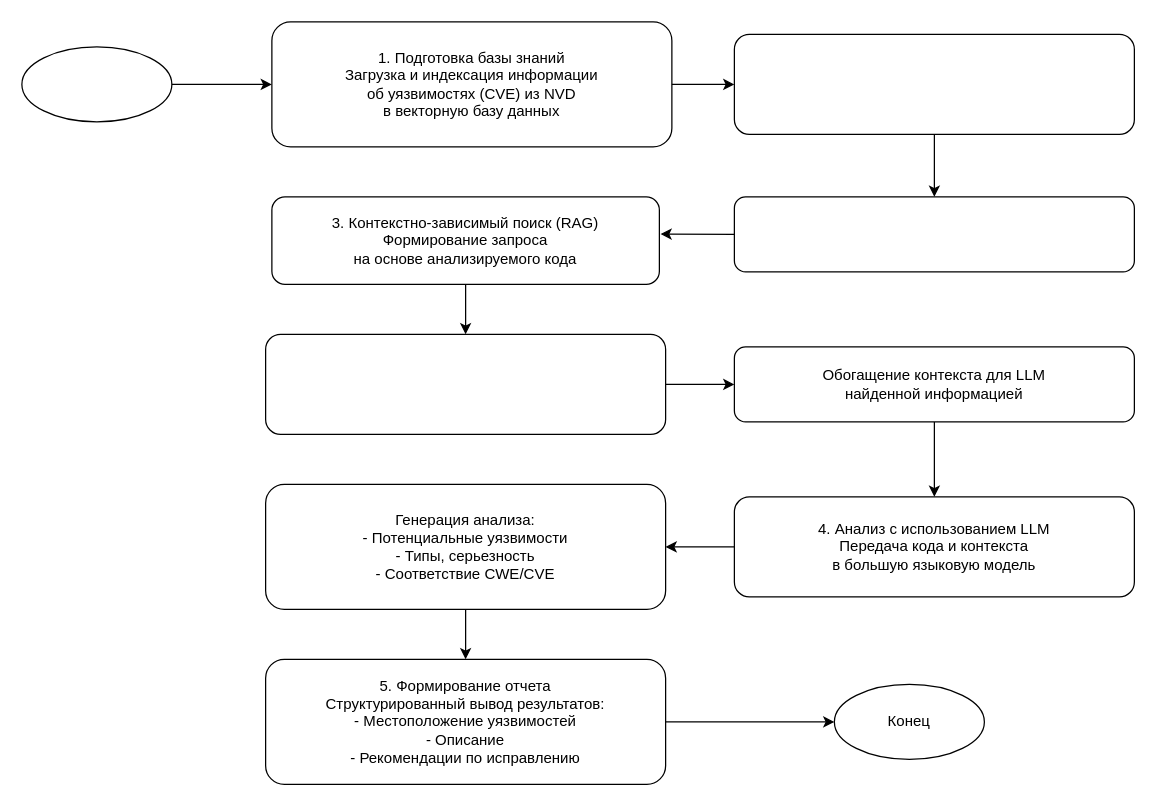
The diagram is 1156 pixels wide and 806 high, and some of its shapes have lost their labels. The shapes that lost their labels are listed below. From the top down, each one's centre as x and y in pixels, then its label:
the point at 96,84: Начало
the point at 933,83: 2. Анализ исходного кода Парсинг файлов проекта (поддержка множественных языков)
the point at 933,234: Извлечение релевантных фрагментов кода для анализа
the point at 465,383: Поиск релевантных записей из базы знаний CVE/CWE (семантический поиск)
